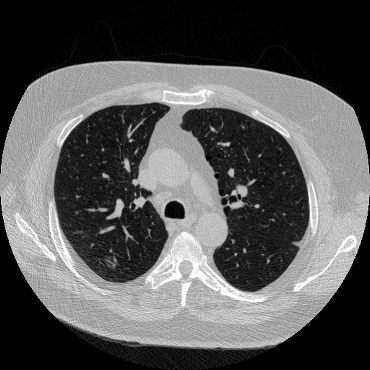nodule: (104, 256, 116, 268)
